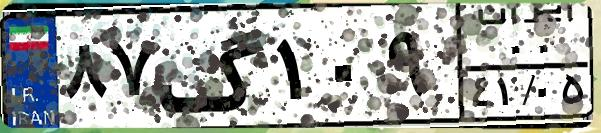0: (330, 28, 385, 110), (537, 27, 568, 80), (508, 27, 537, 80), (535, 70, 560, 125)
1: (270, 28, 330, 110), (495, 70, 520, 125)
4: (470, 70, 495, 125)
5: (560, 70, 590, 125)
7: (110, 28, 156, 98)
8: (57, 26, 110, 100)
9: (385, 28, 445, 110)
گ: (156, 12, 270, 120)
